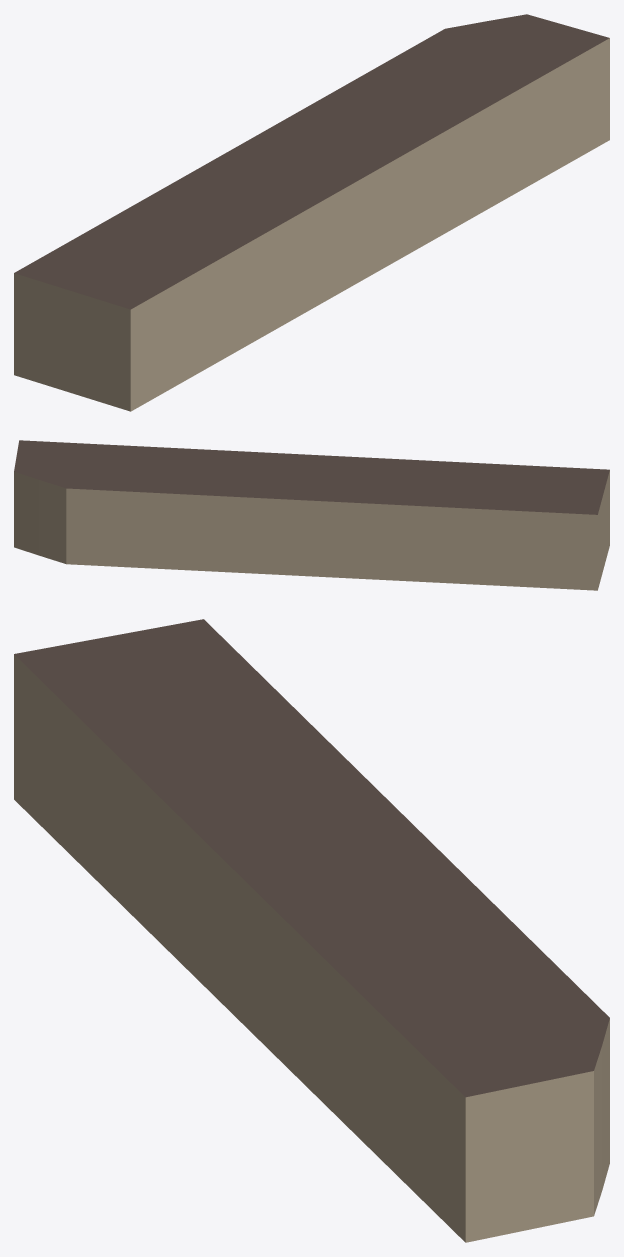
3 renders of one model, top to bottom at view 1: azimuth 30°, elevation 25°; view 2: azimuth 150°, elevation 25°; view 3: azimuth 270°, elevation 25°, orthographic. The views are drawn at different scales.
Parts seen in each view (by area): view 1: HP-w373833616; view 2: HP-w373833616; view 3: HP-w373833616.
Part boxes in pixels (box(x1,y1,x2,y2)): HP-w373833616: box(14, 14, 609, 411); HP-w373833616: box(14, 440, 609, 590); HP-w373833616: box(14, 619, 609, 1242).
Bounding box in the file's own units: 63.45 × 9 × 33.42.
